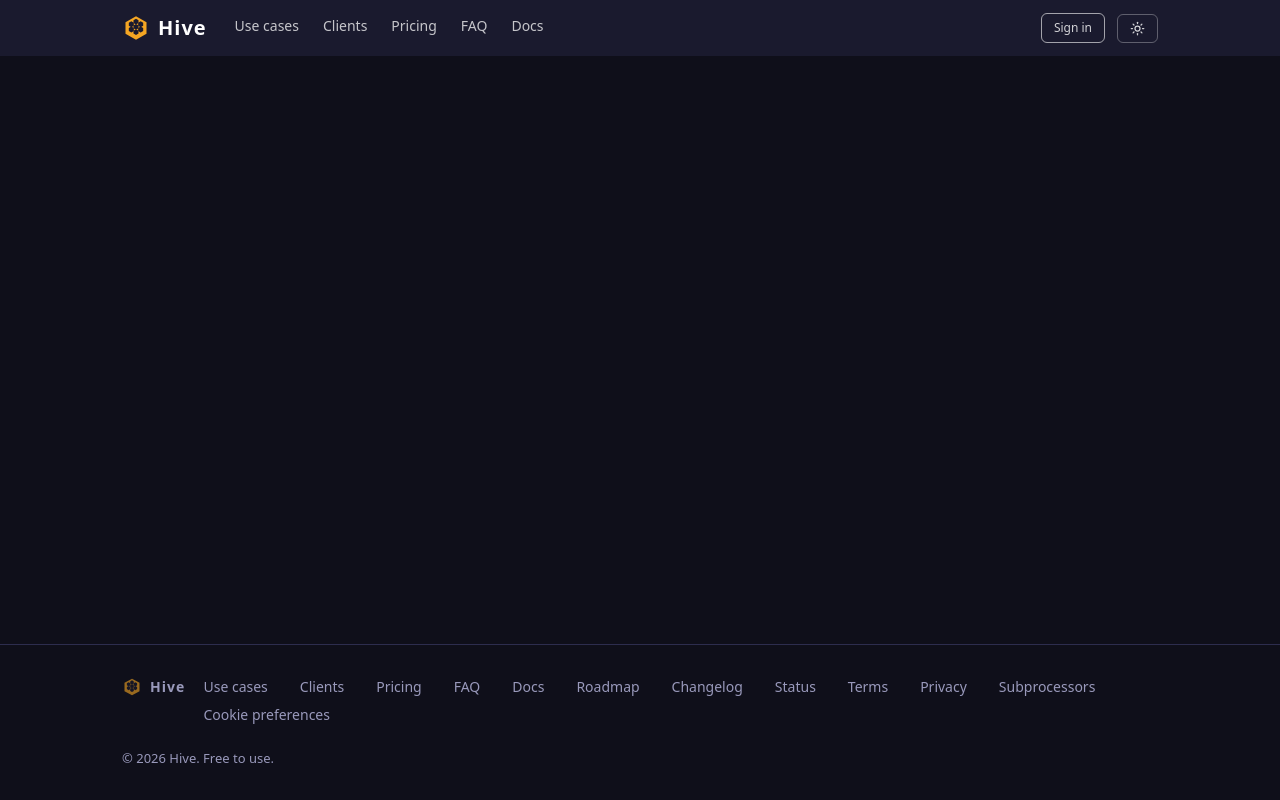
Test case: PageLayout › Cookie preferences click clears stored consent and re-shows the banner
Click the link "Cookie preferences": (267, 714) [204,704,330,724]
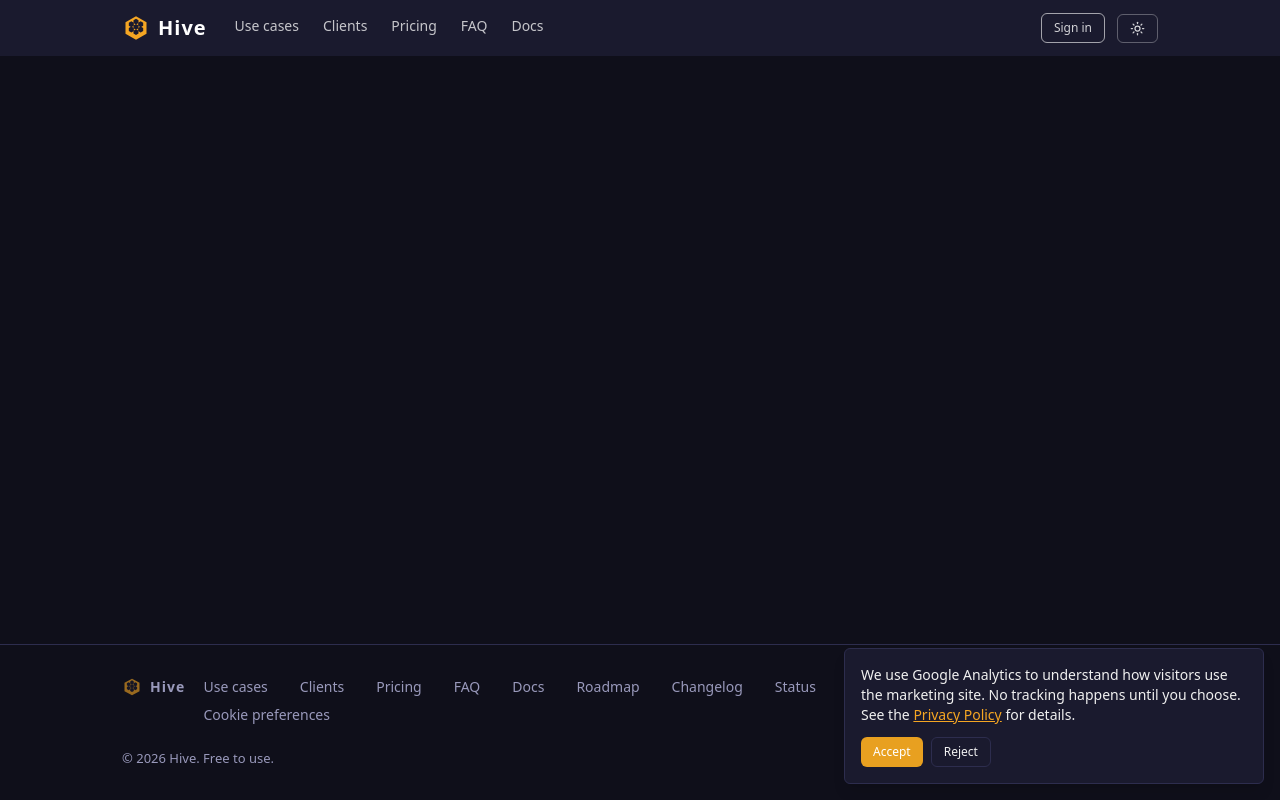
Result: the dialog named "Cookie consent" is shown at [844,648,1264,784]
